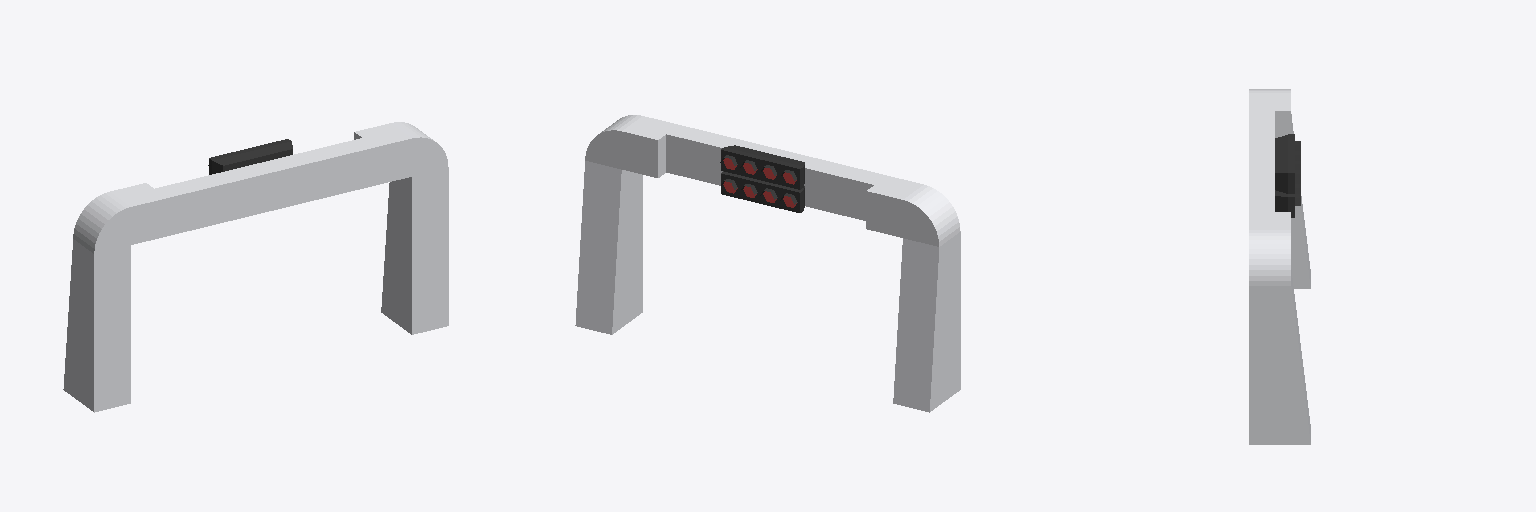
File: overheadLights.obj
3 views of the same model, side by side, from view 1: azimuth 30°, elevation 25°; view 2: azimuth 150°, elevation 25°; view 3: azimuth 270°, elevation 25° (orthographic).
Parts seen in each view (by area): view 1: overheadLights; view 2: overheadLights; view 3: overheadLights.
Boxes of the visible parts, x1,y1,x2,y2 form: overheadLights: [63, 122, 448, 412]; overheadLights: [575, 115, 960, 412]; overheadLights: [1249, 89, 1310, 444].
Size of the model in its own units: 1.26 by 0.6939 by 0.19.